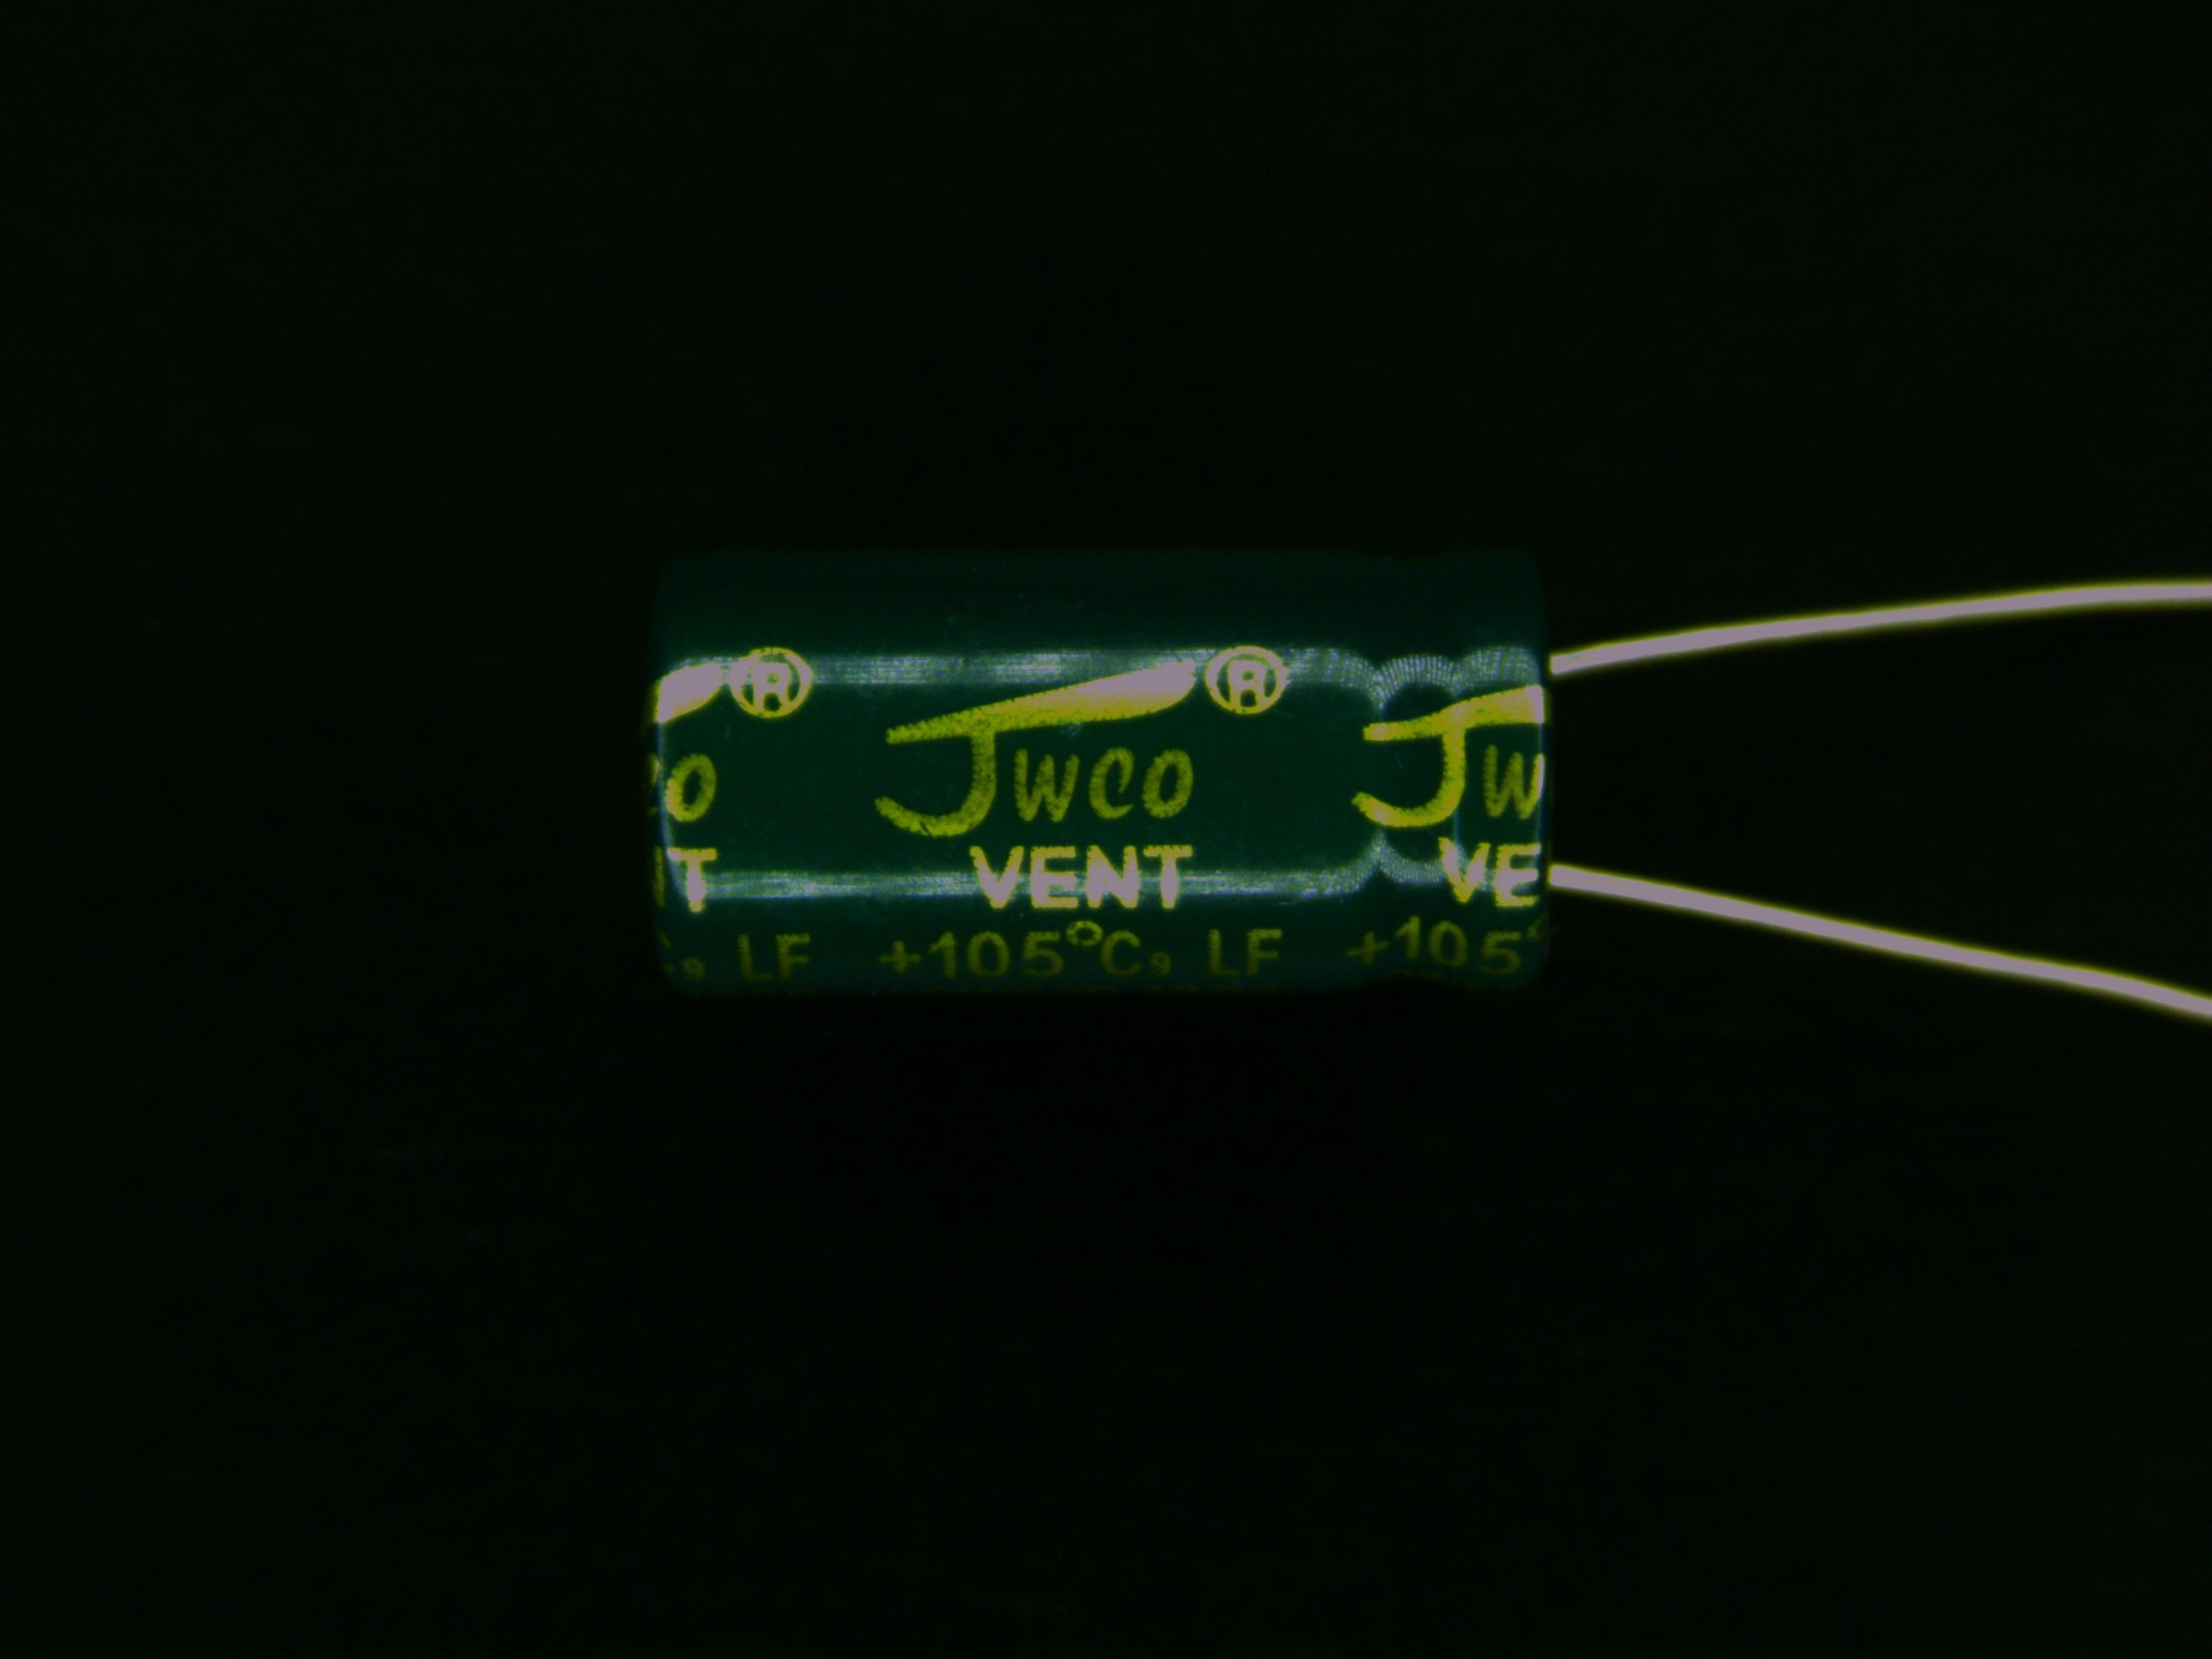c1: (639, 547, 1691, 1004)
